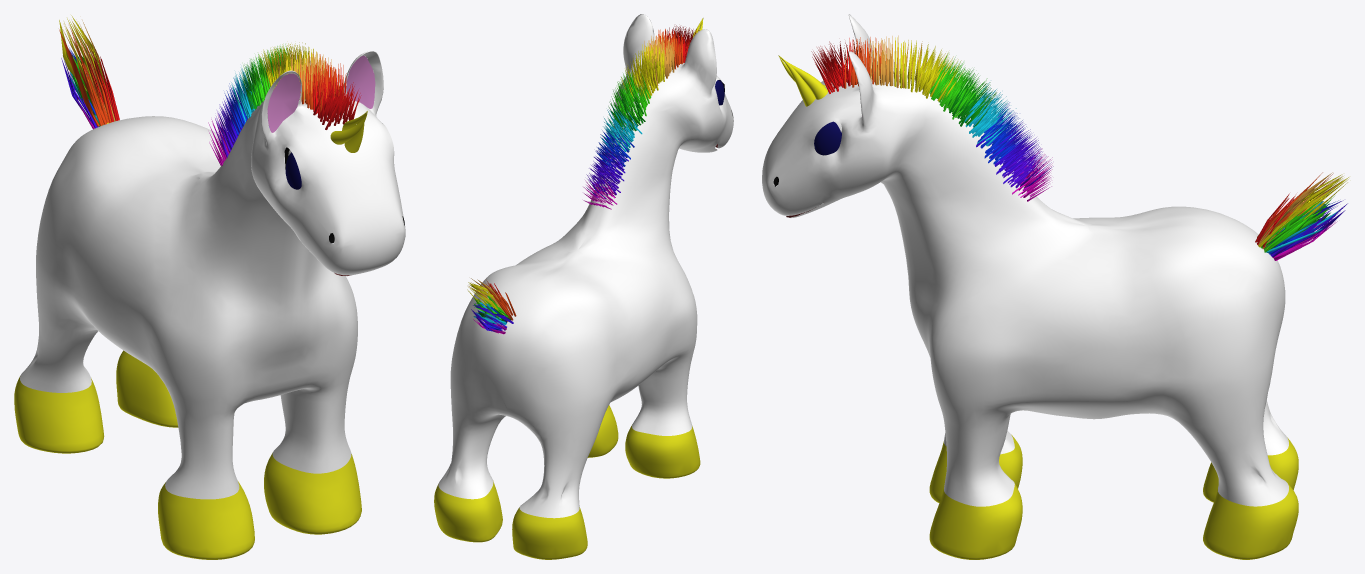
The model's file is baby_unicorn_final.glb.
3 renders of one model, left to right at view 1: azimuth 30°, elevation 25°; view 2: azimuth 150°, elevation 25°; view 3: azimuth 270°, elevation 25°, orthographic. The views are drawn at different scales.
Visible parts, largest first — view 1: Body, Hooves, Mane Orange, Inner Ear, Mane Red, Mane Yellow 2, Mane Yellow, Mane Green, Mane Purple, Horn, Mane Blue, Mane Green 2 (+2 smaller); view 2: Body, Hooves, Mane Yellow 2, Mane Green, Mane Yellow, Mane Purple, Mane Blue, Mane Orange, Mane Blue 2, Mane Green 2, Mane Purple 2, Mane Pink (+1 smaller); view 3: Body, Hooves, Mane Yellow 2, Mane Green, Mane Yellow, Mane Red, Mane Blue, Mane Purple, Mane Blue 2, Mane Orange, Mane Green 2, Mane Pink (+3 smaller).
Part boxes in pixels (left/top/right/bottom): Body: left=20, top=51, right=405, bottom=499; Hooves: left=14, top=350, right=361, bottom=559; Mane Orange: left=59, top=29, right=345, bottom=126; Inner Ear: left=267, top=55, right=375, bottom=132; Mane Red: left=89, top=52, right=361, bottom=129; Mane Yellow 2: left=59, top=15, right=316, bottom=123; Mane Yellow: left=62, top=20, right=331, bottom=122; Mane Green: left=72, top=44, right=290, bottom=106; Mane Purple: left=61, top=50, right=242, bottom=148; Horn: left=330, top=111, right=367, bottom=152; Mane Blue: left=69, top=61, right=262, bottom=122; Mane Green 2: left=72, top=53, right=275, bottom=126; Body: left=438, top=14, right=733, bottom=518; Hooves: left=434, top=405, right=700, bottom=559; Mane Yellow 2: left=467, top=43, right=664, bottom=315; Mane Green: left=473, top=69, right=651, bottom=321; Mane Yellow: left=468, top=33, right=674, bottom=313; Mane Purple: left=471, top=134, right=628, bottom=331; Mane Blue: left=473, top=107, right=642, bottom=324; Mane Orange: left=482, top=29, right=683, bottom=321; Mane Blue 2: left=473, top=130, right=634, bottom=330; Mane Green 2: left=478, top=89, right=645, bottom=321; Mane Purple 2: left=586, top=165, right=620, bottom=199; Mane Pink: left=473, top=179, right=617, bottom=334; Body: left=762, top=14, right=1288, bottom=506; Hooves: left=929, top=434, right=1298, bottom=559; Mane Yellow 2: left=894, top=37, right=1348, bottom=250; Mane Green: left=929, top=53, right=1334, bottom=252; Mane Yellow: left=869, top=35, right=1342, bottom=248; Mane Red: left=811, top=38, right=1294, bottom=247; Mane Blue: left=964, top=82, right=1338, bottom=252; Mane Purple: left=976, top=122, right=1347, bottom=257; Mane Blue 2: left=977, top=102, right=1338, bottom=254; Mane Orange: left=844, top=37, right=1333, bottom=241; Mane Green 2: left=947, top=69, right=1330, bottom=248; Mane Pink: left=1012, top=148, right=1337, bottom=260.
Bounding box in the file's own units: 1.43 × 3.62 × 3.97.
